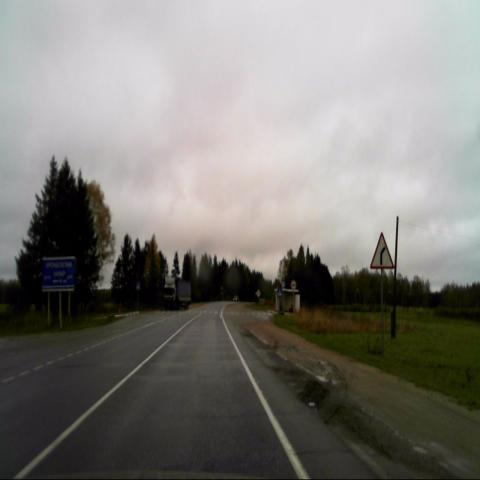1_11: (369, 231, 395, 269)
